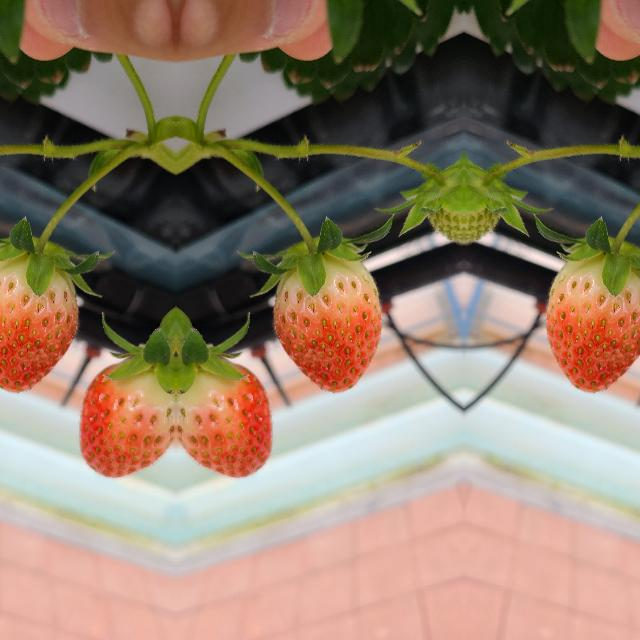Health_100: (272, 254, 380, 392), (546, 254, 640, 392), (176, 349, 274, 479), (76, 349, 174, 479), (0, 254, 78, 392)
